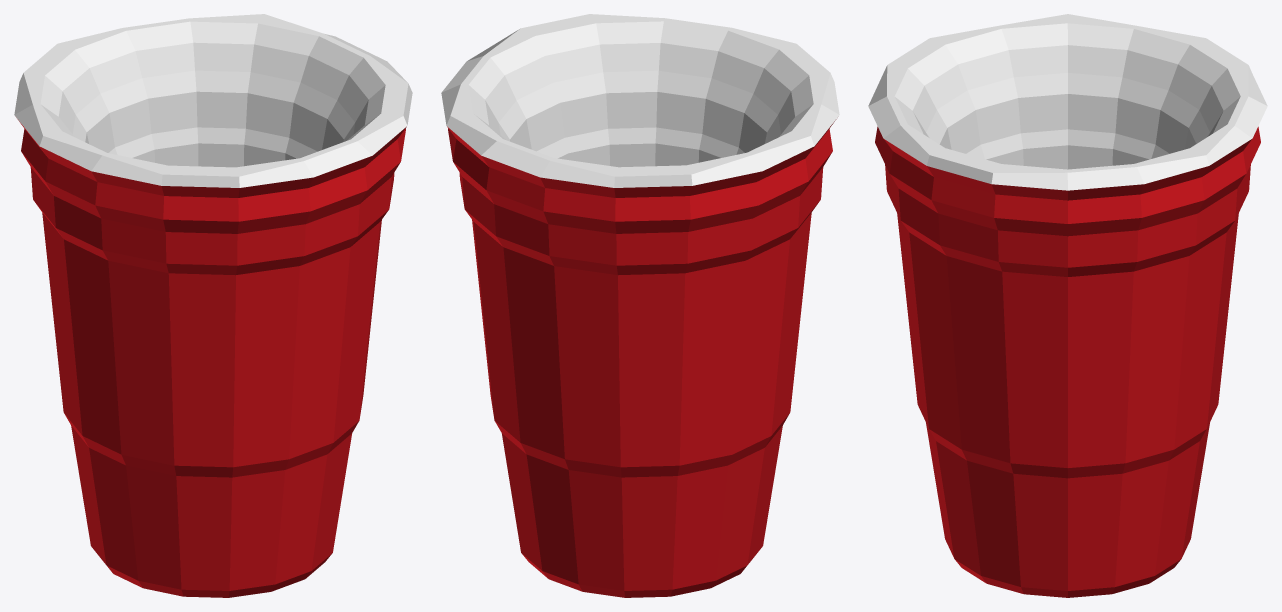
Rendered from RedCupThicc.glb.
The picture shows the model from 3 angles, left to right: view 1: azimuth 30°, elevation 25°; view 2: azimuth 150°, elevation 25°; view 3: azimuth 270°, elevation 25°; orthographic projection.
Parts seen in each view (by area): view 1: Cup; view 2: Cup; view 3: Cup.
Part boxes in pixels (box(x1,y1,x2,y2)): Cup: box(14, 14, 412, 597); Cup: box(441, 14, 839, 597); Cup: box(868, 14, 1267, 597).
Bounding box in the file's own units: 0.096 × 0.12 × 0.096.
